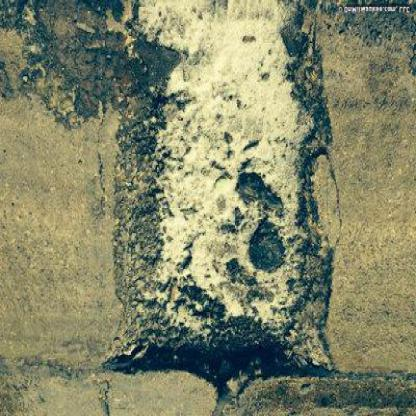pothole: (94, 3, 342, 397)
